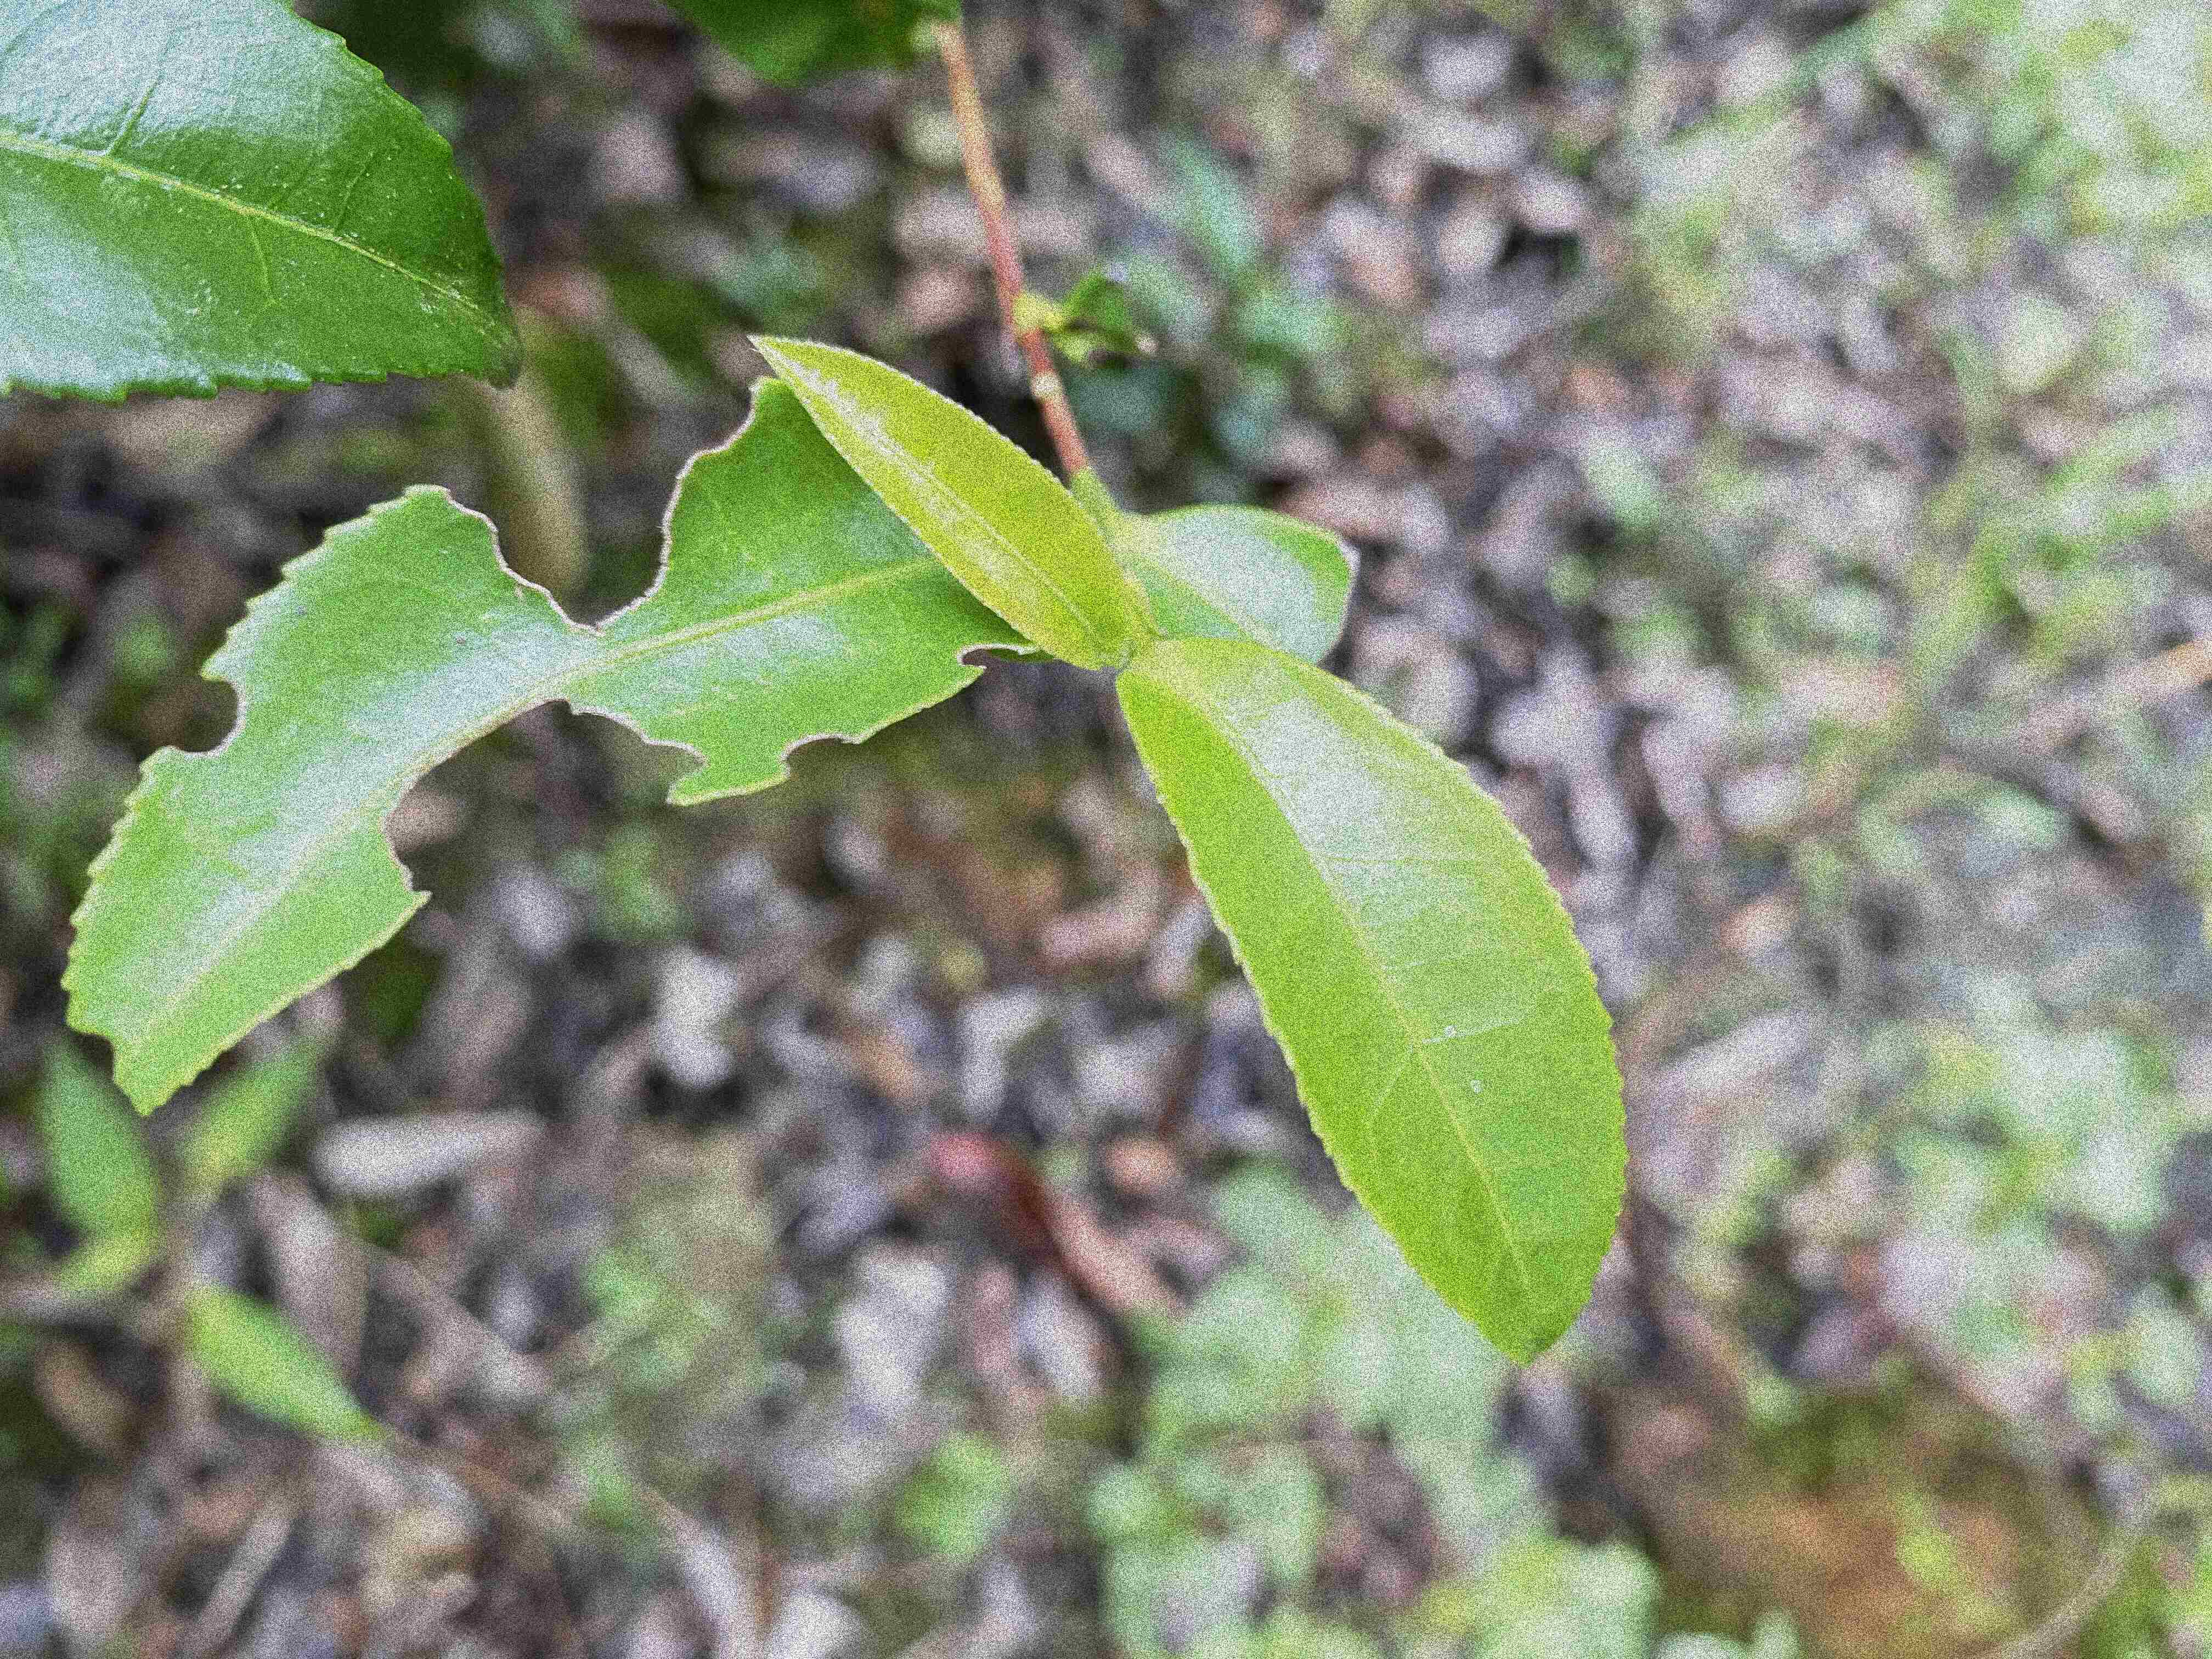chihuo_high: (59, 373, 1031, 1121)
healthy: (1120, 638, 1637, 1363), (0, 5, 526, 403), (749, 338, 1129, 666)
